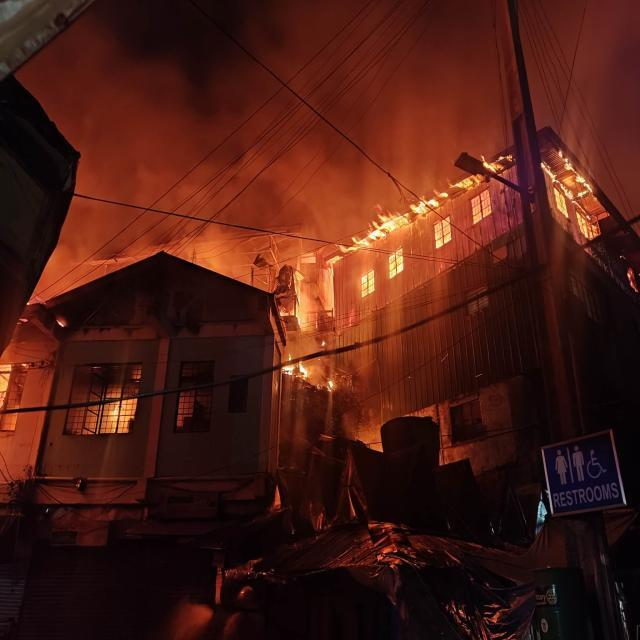Fire: (326, 148, 514, 264), (538, 146, 597, 216), (284, 353, 310, 382), (0, 366, 15, 416), (107, 401, 131, 429), (624, 266, 638, 292), (323, 380, 338, 392)
